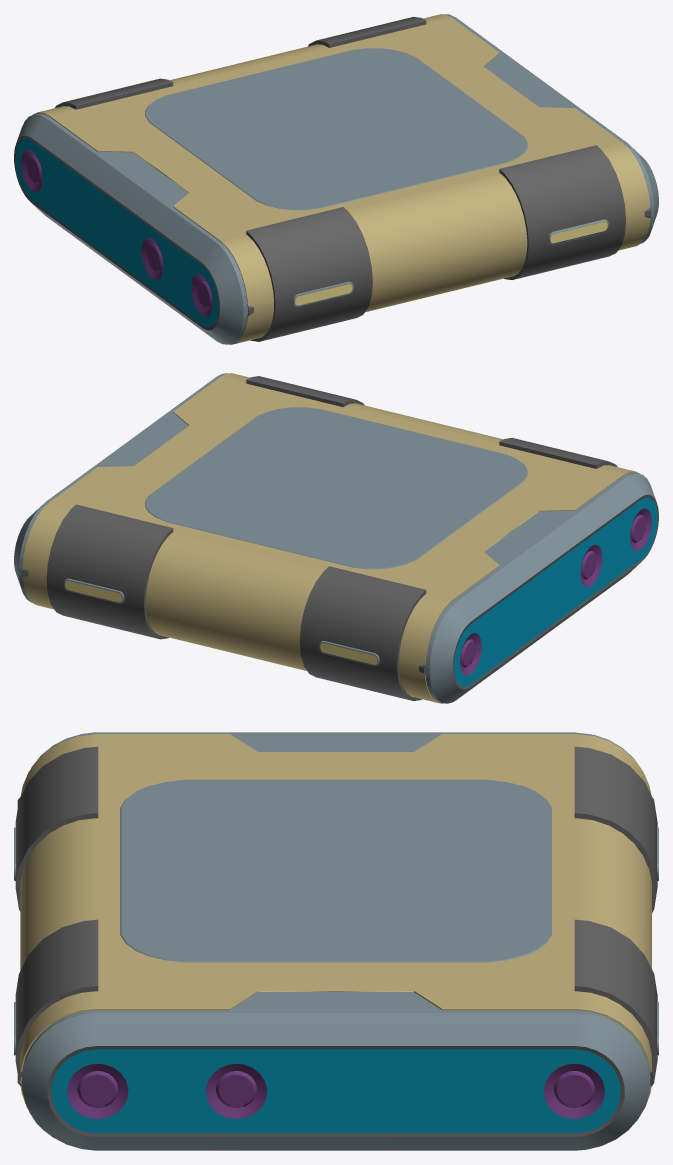
File: env_building_warehouse01_lod2.fbx
The picture shows the model from 3 angles, top to bottom: view 1: azimuth 30°, elevation 25°; view 2: azimuth 150°, elevation 25°; view 3: azimuth 270°, elevation 25°; orthographic projection. The views are drawn at different scales.
Visible parts, largest first — view 1: env_building_warehouse01_lod2; view 2: env_building_warehouse01_lod2; view 3: env_building_warehouse01_lod2.
Part boxes in pixels (box(x1,y1,x2,y2)): env_building_warehouse01_lod2: box(14, 14, 658, 344); env_building_warehouse01_lod2: box(14, 373, 658, 703); env_building_warehouse01_lod2: box(14, 732, 658, 1150).
Size of the model in its own units: 567 by 133 by 516.
